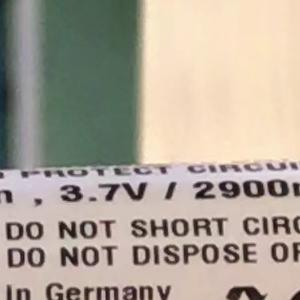keyword: (50, 173, 154, 212)
